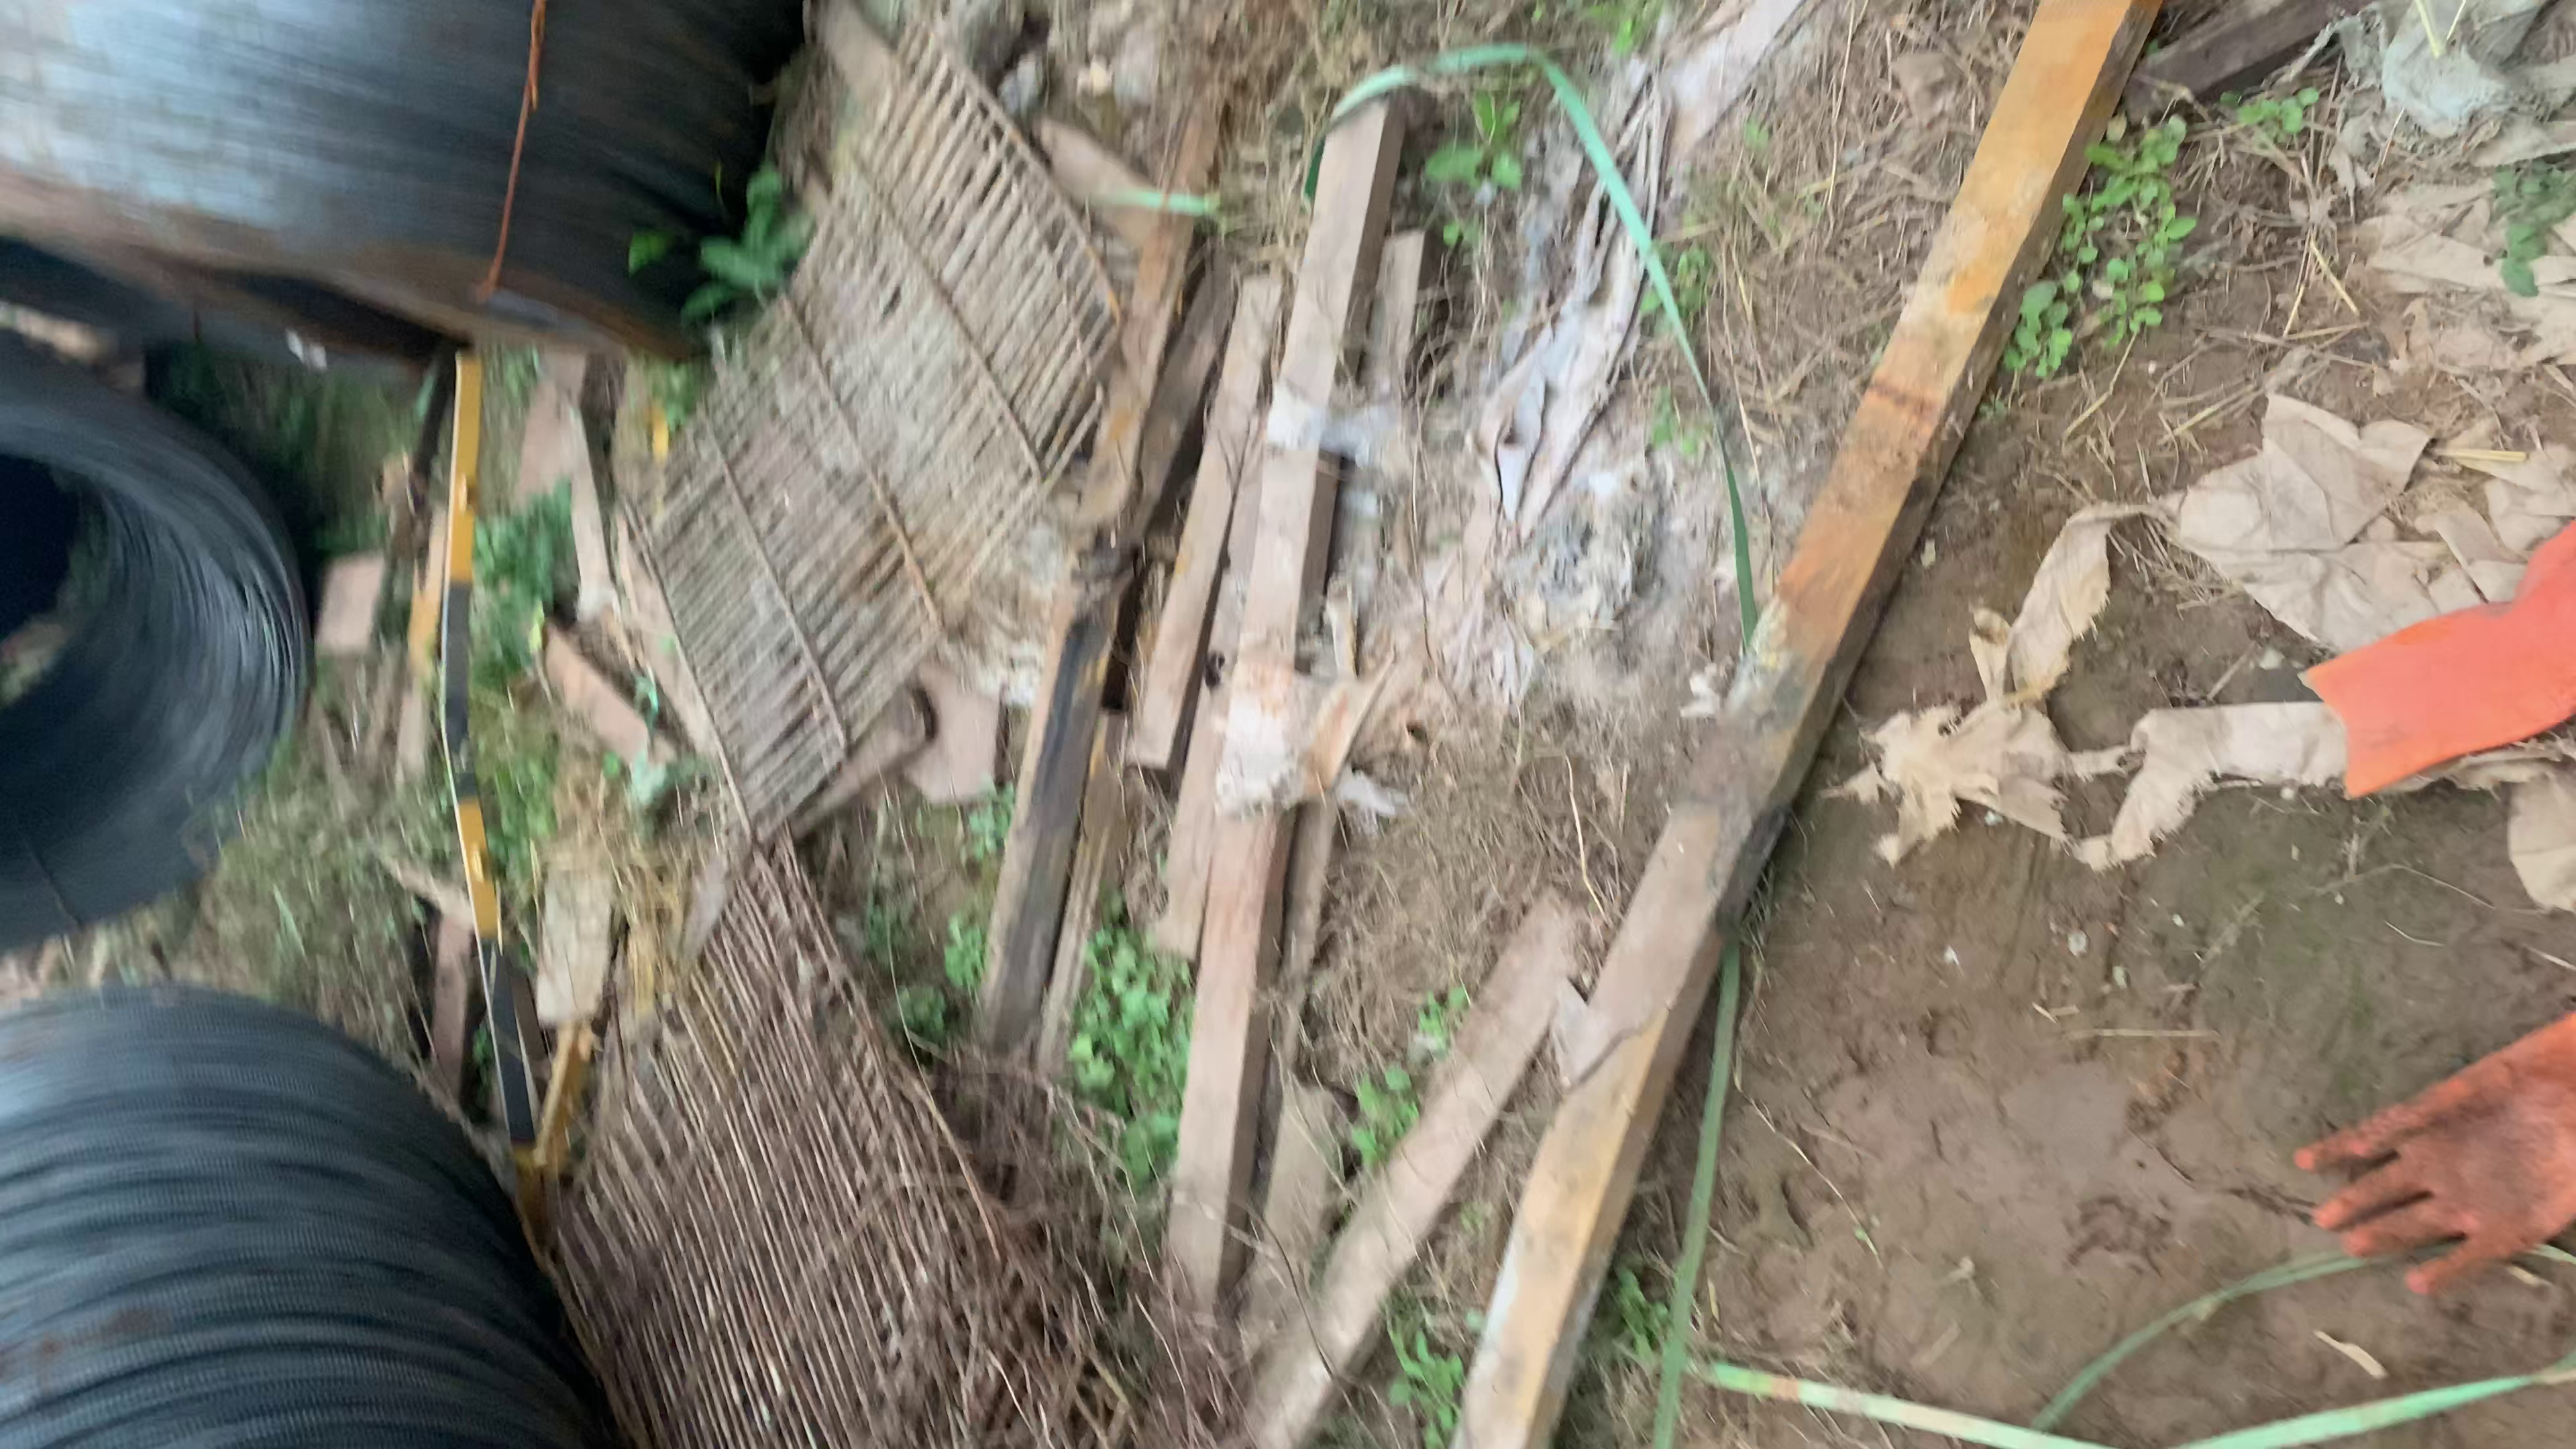coil: (0, 101, 702, 402), (0, 471, 311, 941)
